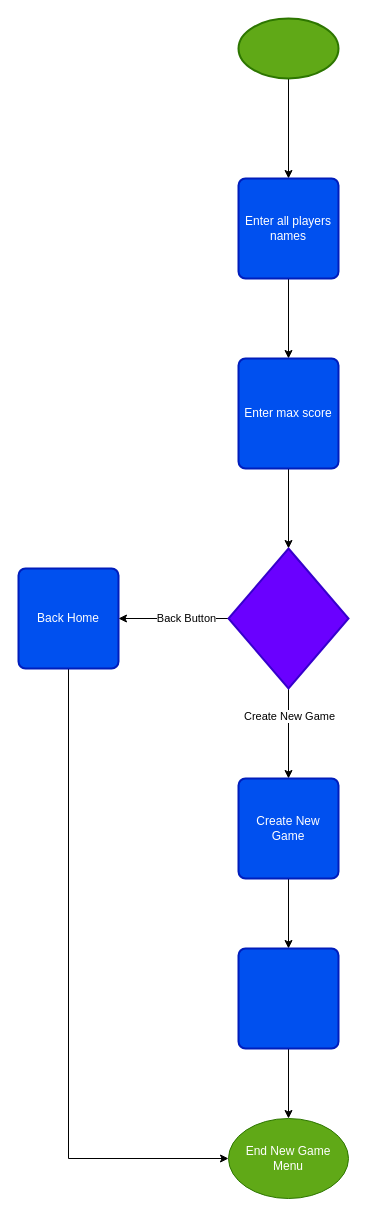
Some shapes in this 366 by 1216 pixel diagram are drawn without their labels. The shapes that lost their labels are listed below. From the top down, each one's centre as x and y in pixels, then its label:
the point at 288,48: Start New Game
the point at 288,618: Button Selection
the point at 288,998: Launch Game Session Menu
